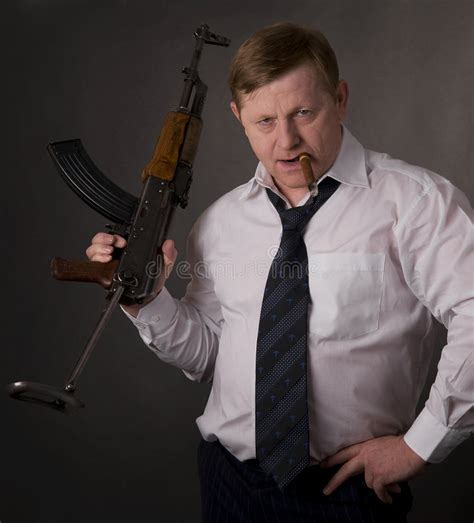cigarette: (297, 152, 320, 197)
gun: (7, 21, 232, 419)
